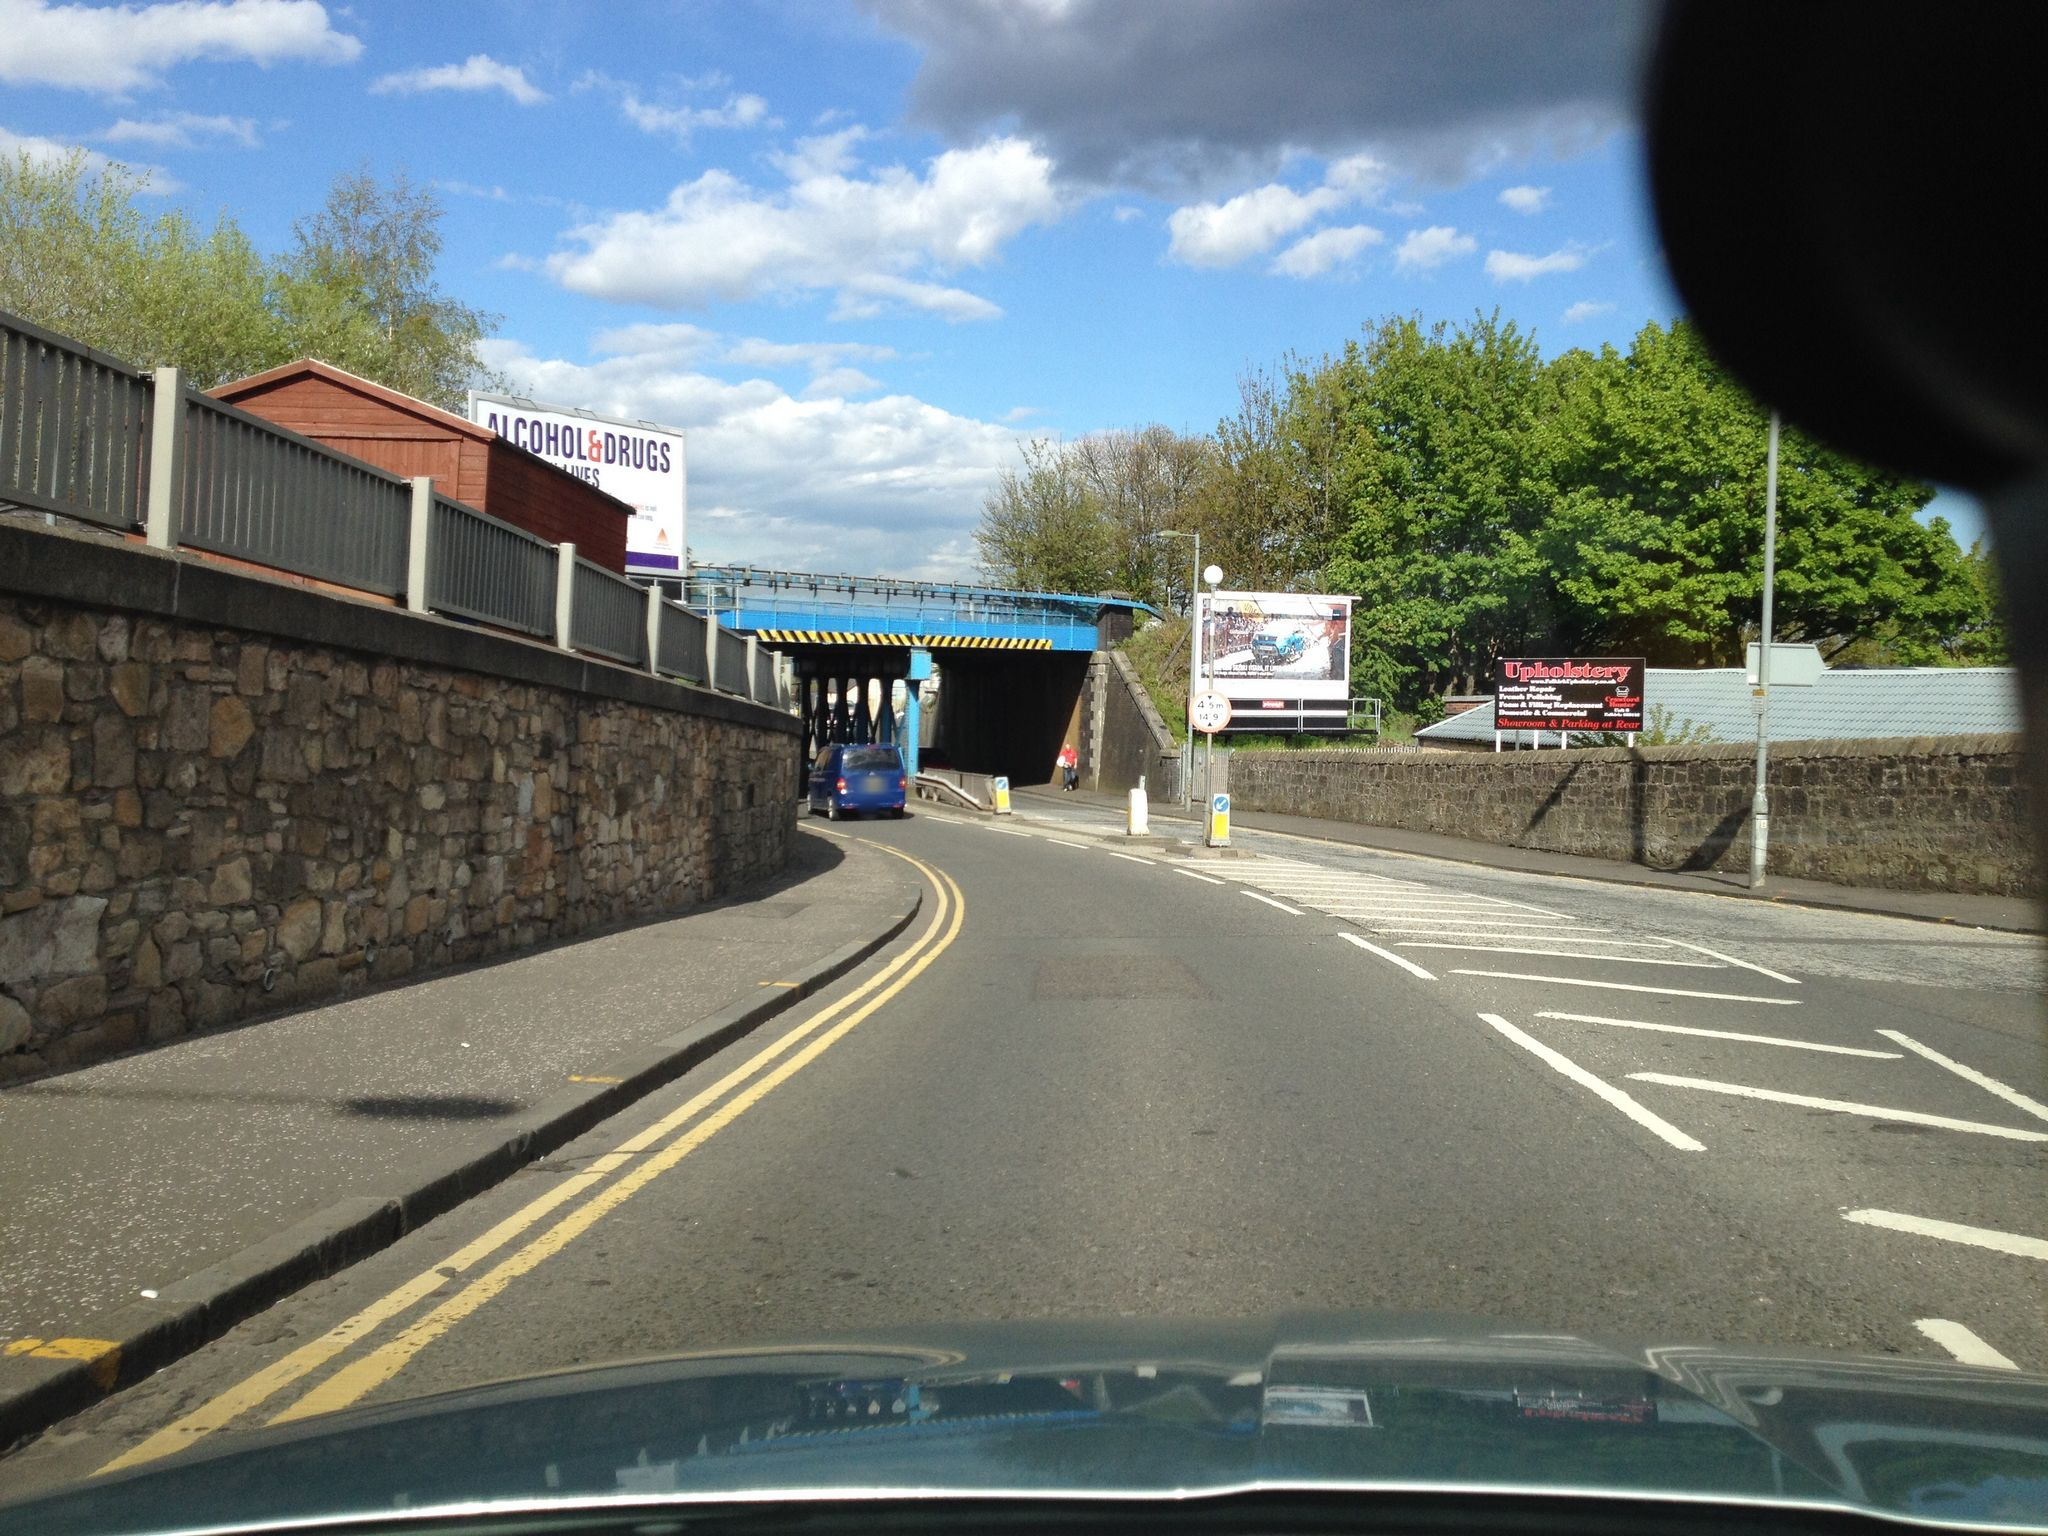car: (805, 742, 906, 821)
